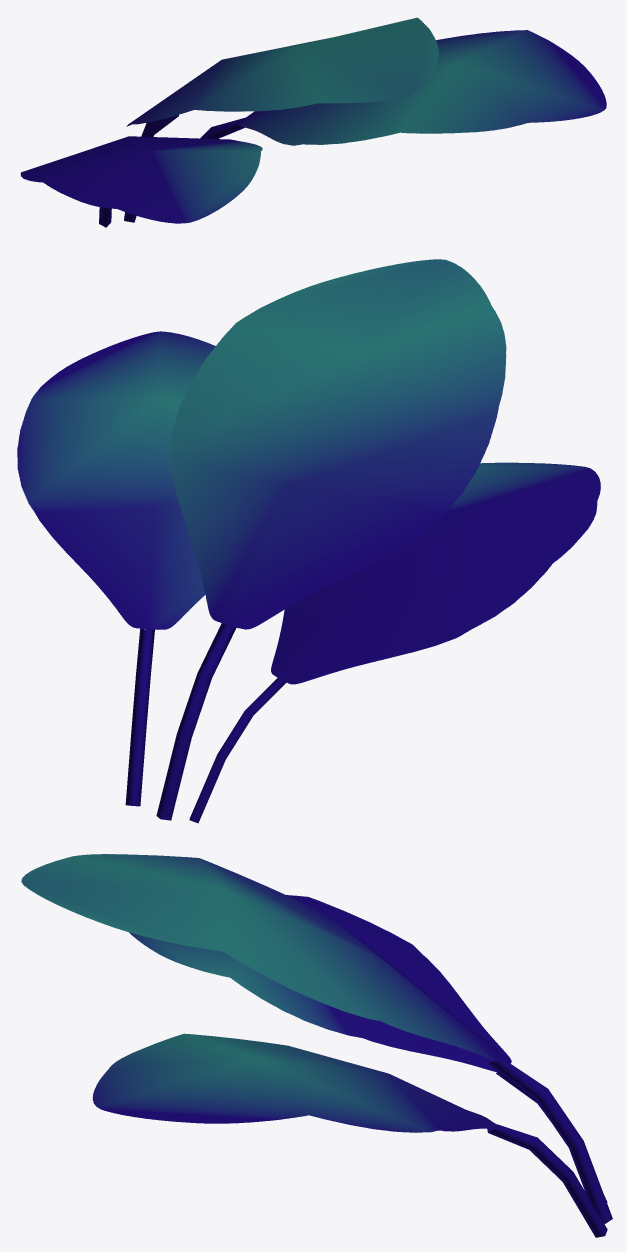
Rendered from Plant10.fbx.
3 views of the same model, one above another, from view 1: azimuth 30°, elevation 25°; view 2: azimuth 150°, elevation 25°; view 3: azimuth 270°, elevation 25° (orthographic). The views are drawn at different scales.
Parts seen in each view (by area): view 1: BezierCurve; view 2: BezierCurve; view 3: BezierCurve.
Part boxes in pixels (x1,y1,x2,y2): BezierCurve: (20, 17, 606, 227); BezierCurve: (17, 259, 600, 823); BezierCurve: (21, 854, 612, 1237).
Size of the model in its own units: 93.34 by 56.91 by 89.14.
